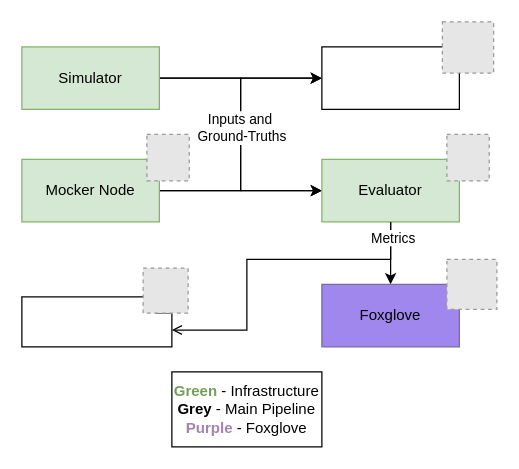
The diagram is 519 pixels wide and 469 high, and some of its shapes have lost their labels. Grey dashed boxes stand in for pictures. Each missing label, with the centre of its shape:
Evaluation Summary: the point at 96,321
System: the point at 390,77
